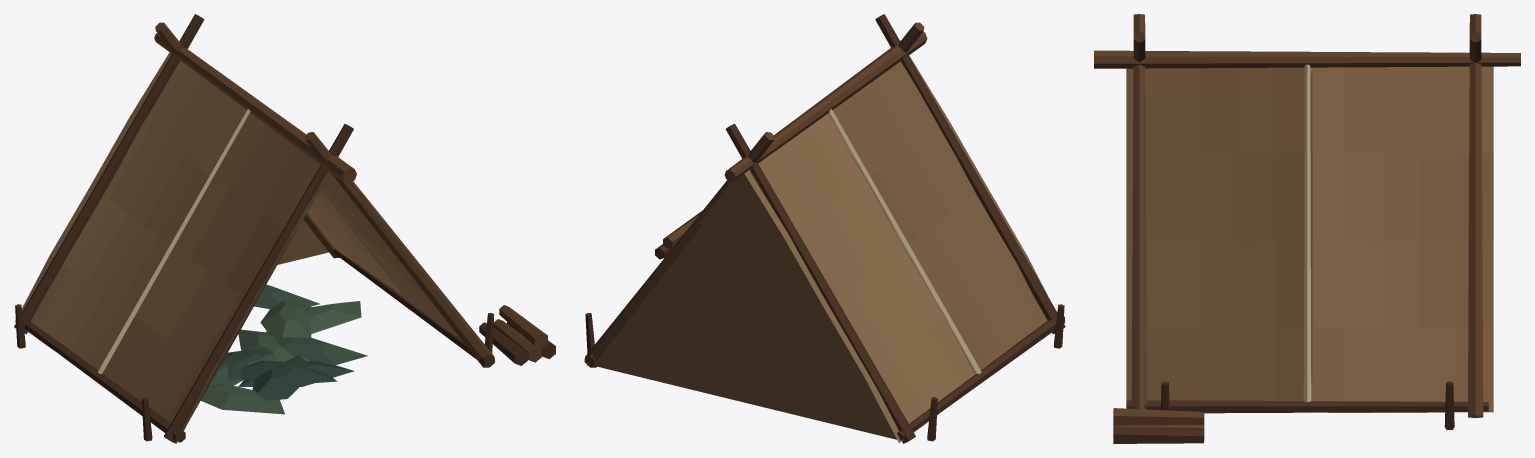
Rendered from shelter.glb.
3 renders of one model, left to right at view 1: azimuth 30°, elevation 25°; view 2: azimuth 150°, elevation 25°; view 3: azimuth 270°, elevation 25°, orthographic. The views are drawn at different scales.
Visible parts, largest first — view 1: shelter; view 2: shelter; view 3: shelter.
Boxes of the visible parts, x1,y1,x2,y2 form: shelter: [14, 14, 555, 443]; shelter: [584, 14, 1065, 443]; shelter: [1094, 14, 1520, 443].
Size of the model in its own units: 3.93 by 2.67 by 3.3.
